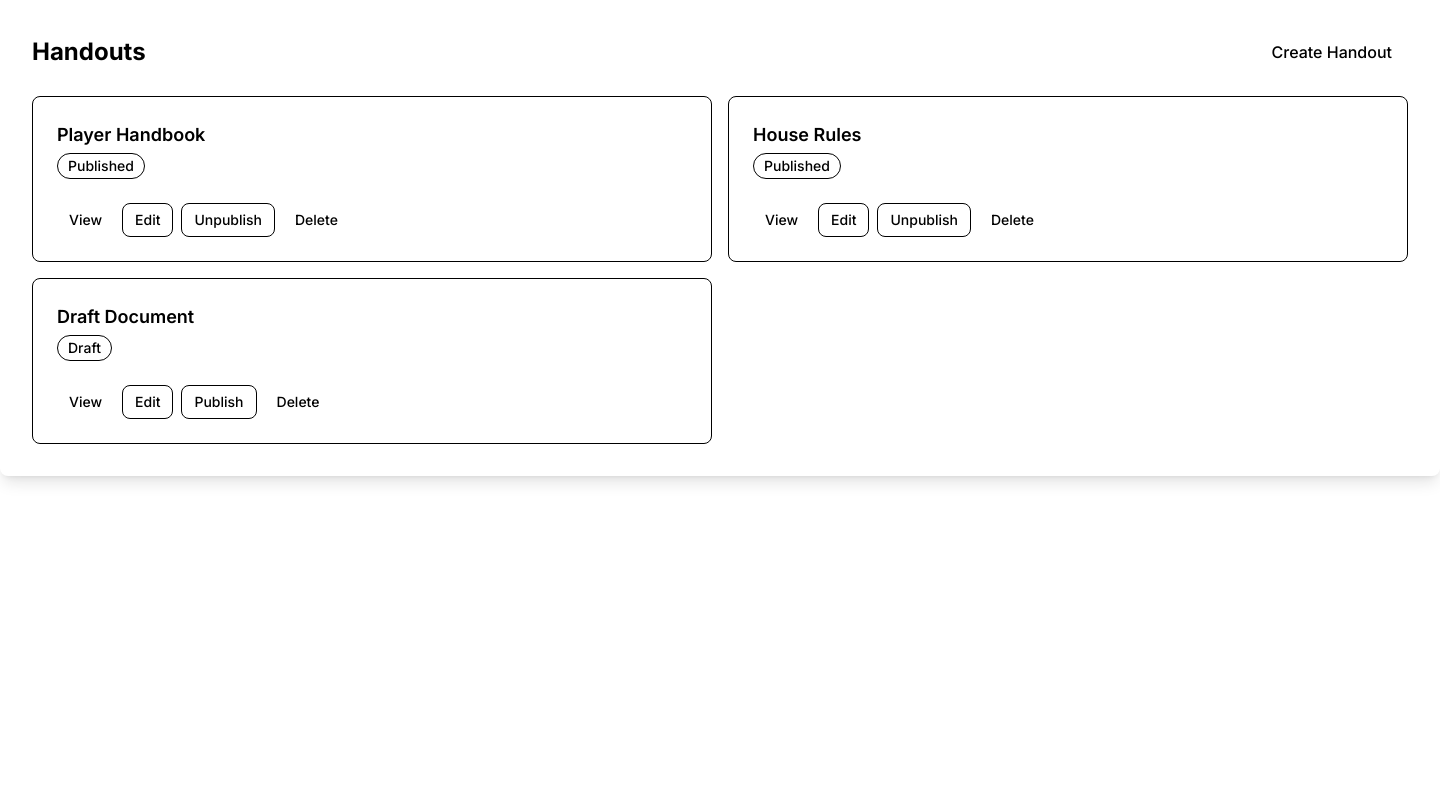
Test: HandoutsList › Create Handout Modal › opens create modal when Create Handout button clicked
Click the button "Create Handout": click(1332, 52) top-left (1256, 32), bottom-right (1408, 72)
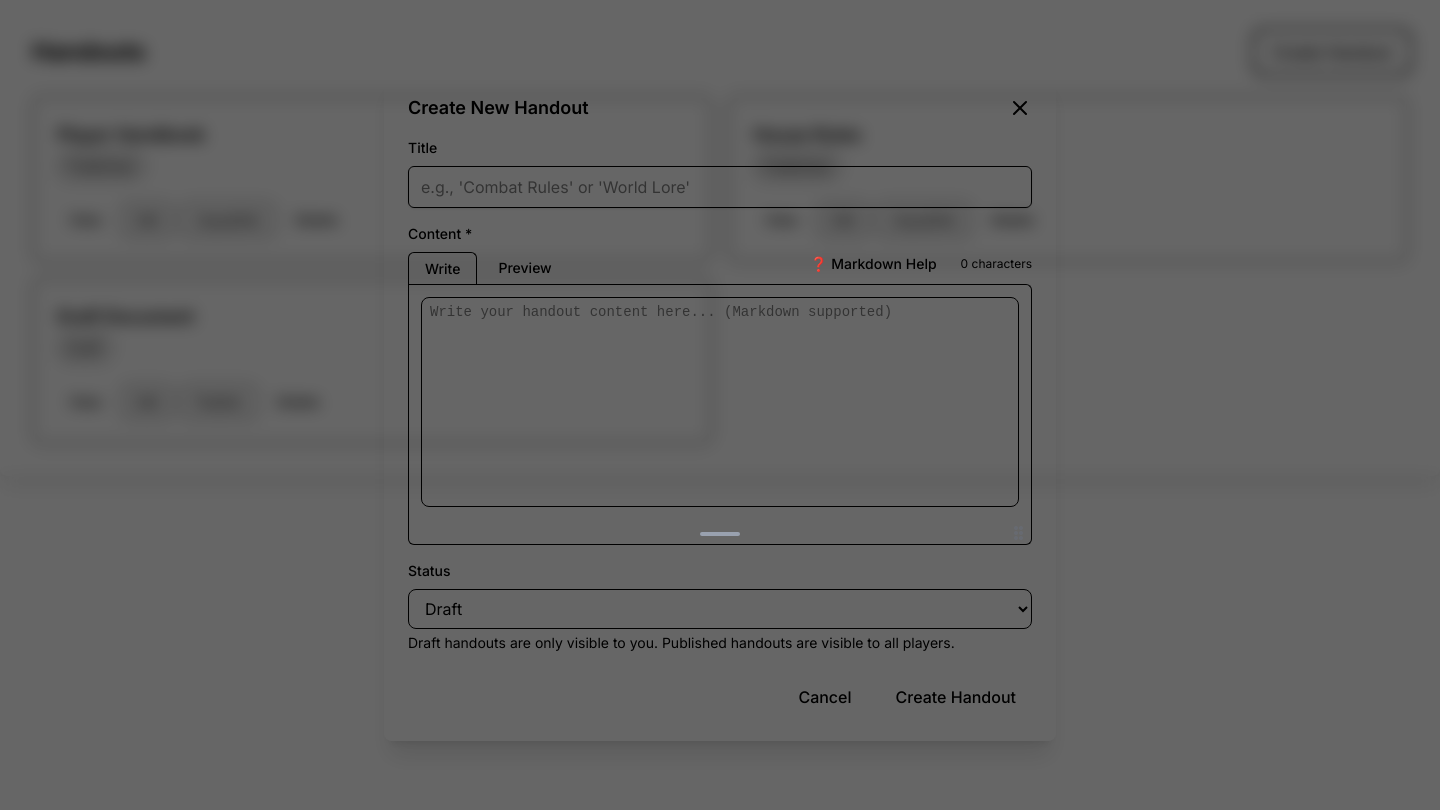
Check: the heading "Create New Handout" is shown, box top-left (408, 94), bottom-right (589, 122)
